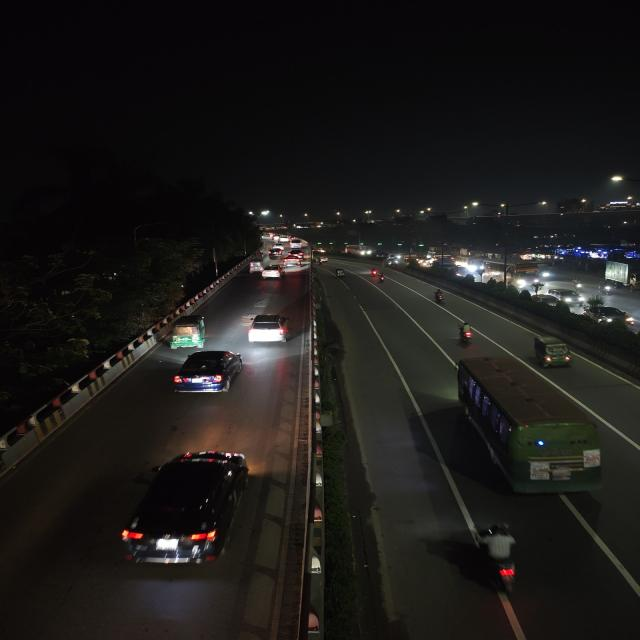bus: (448, 352, 612, 498), (485, 260, 540, 288), (460, 255, 484, 271), (433, 254, 457, 268)
car: (116, 447, 256, 573), (169, 348, 247, 398), (244, 312, 294, 347), (581, 303, 636, 329), (547, 287, 584, 305), (260, 266, 284, 280), (283, 256, 301, 268), (269, 248, 282, 257)
cng: (530, 334, 576, 371), (167, 314, 209, 350), (247, 258, 264, 272), (336, 269, 346, 279)
motorcycle: (468, 521, 534, 597), (452, 319, 478, 351), (431, 287, 449, 306), (368, 267, 380, 278), (375, 273, 386, 285)
truck: (604, 256, 639, 293)
